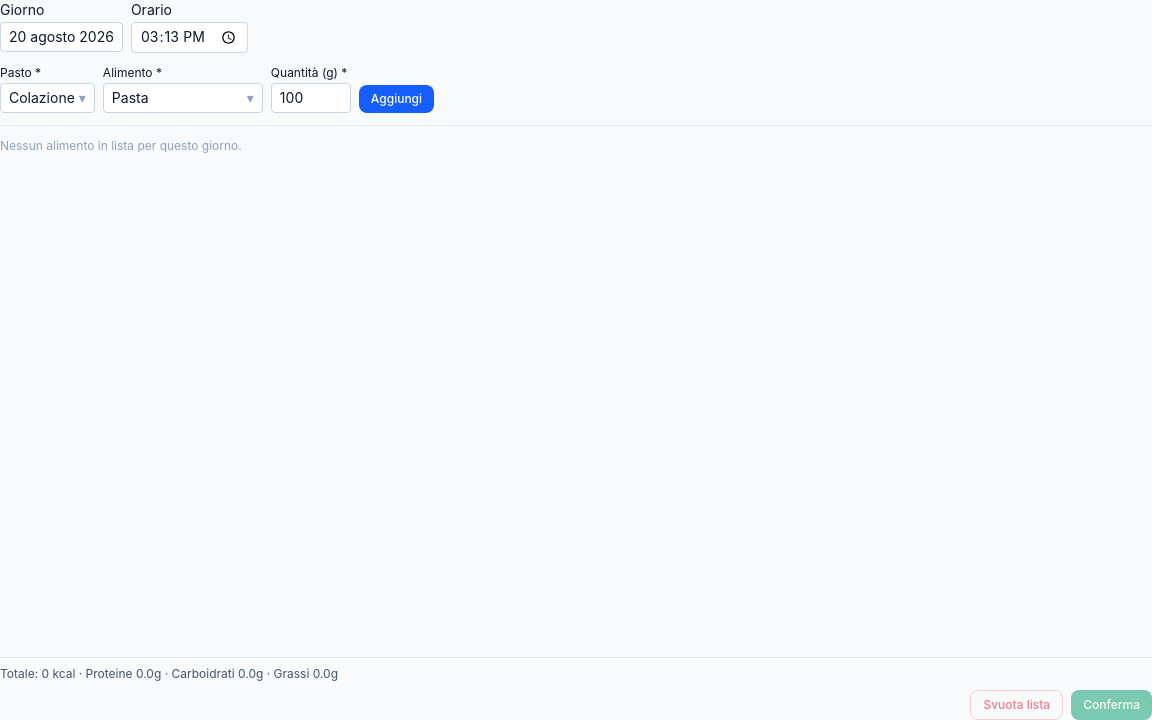
Test: RegistraPastoPanel › RegistraPastoPanel_svuotaListaConConferma_rimuoveTutteLeVociVisibili
Check: the button named "Pasto *" is shown, box [0,83,95,113]
Click the button "Aggiungi" at {"x": 396, "y": 99}, box [359,85,434,113]
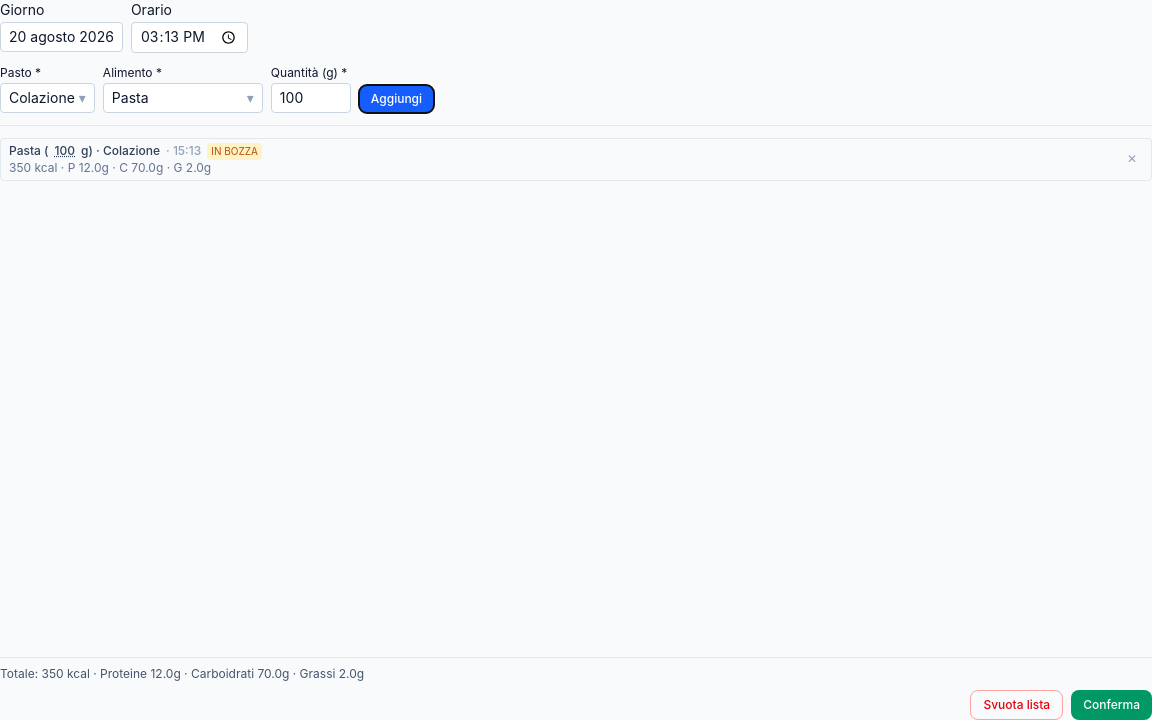
Click the button "Svuota lista" at {"x": 1017, "y": 705}, box [970,690,1063,719]
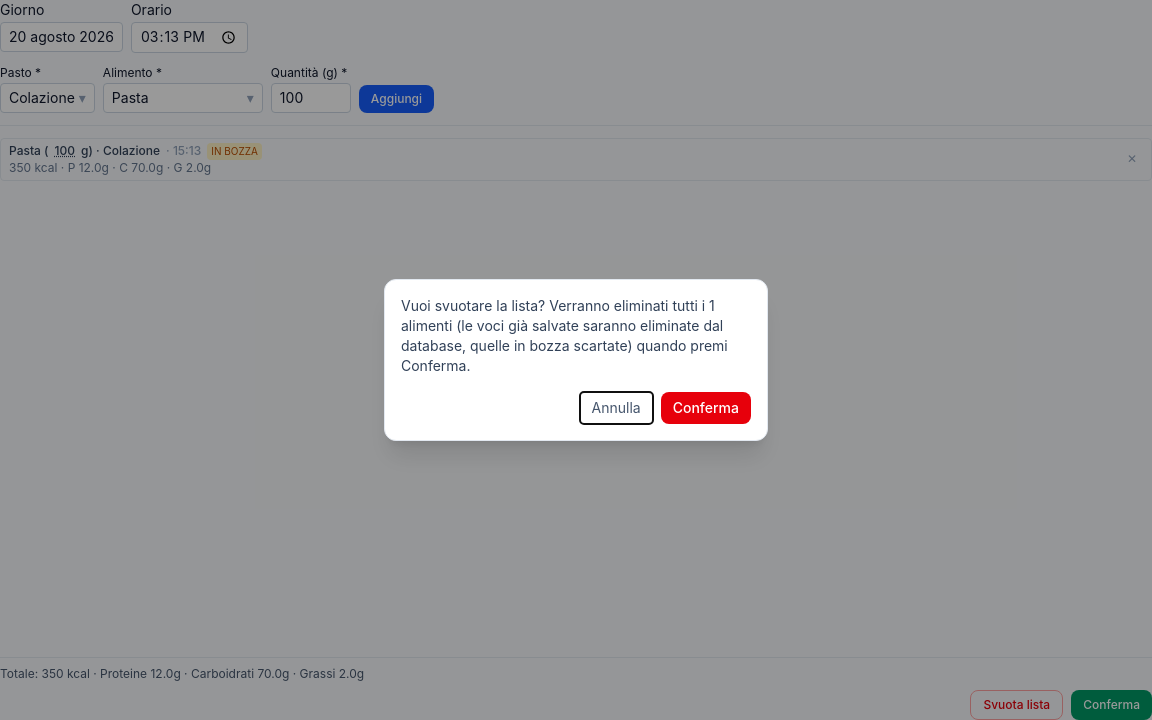
Click the button "Conferma" at {"x": 706, "y": 408}, box [661,392,751,424]
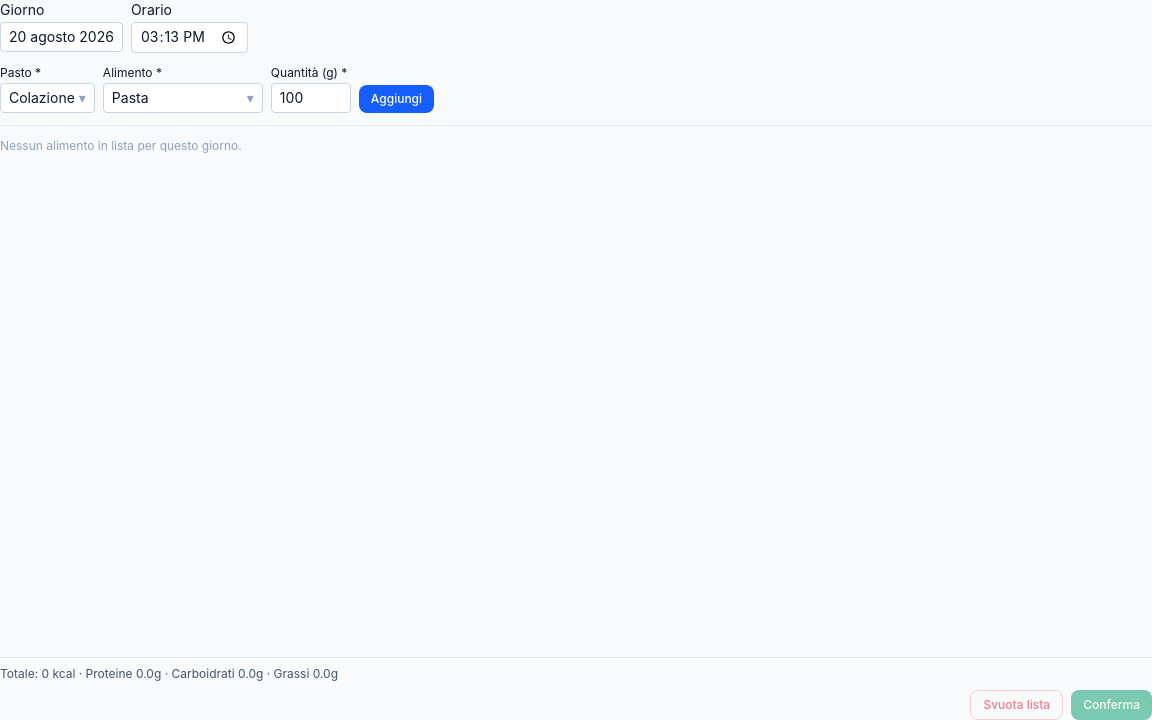
Check: the text "Nessun alimento in lista per questo giorno." is shown, box [0,138,242,153]
